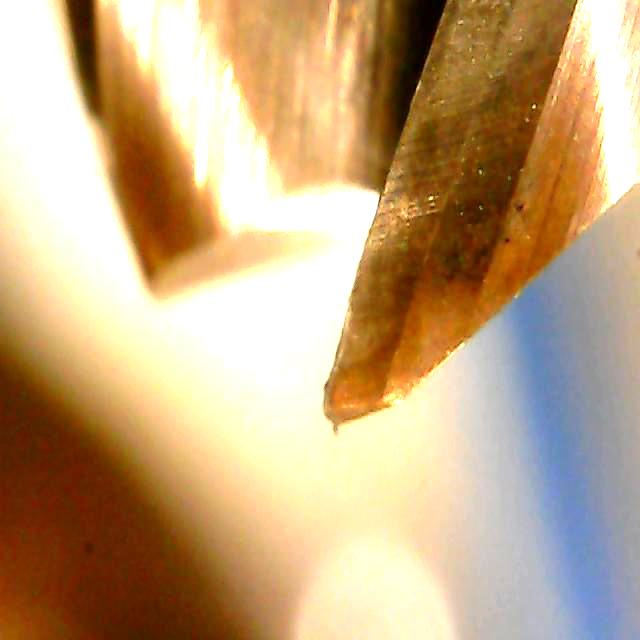Tool-wear-class-0: (314, 219, 445, 438)
